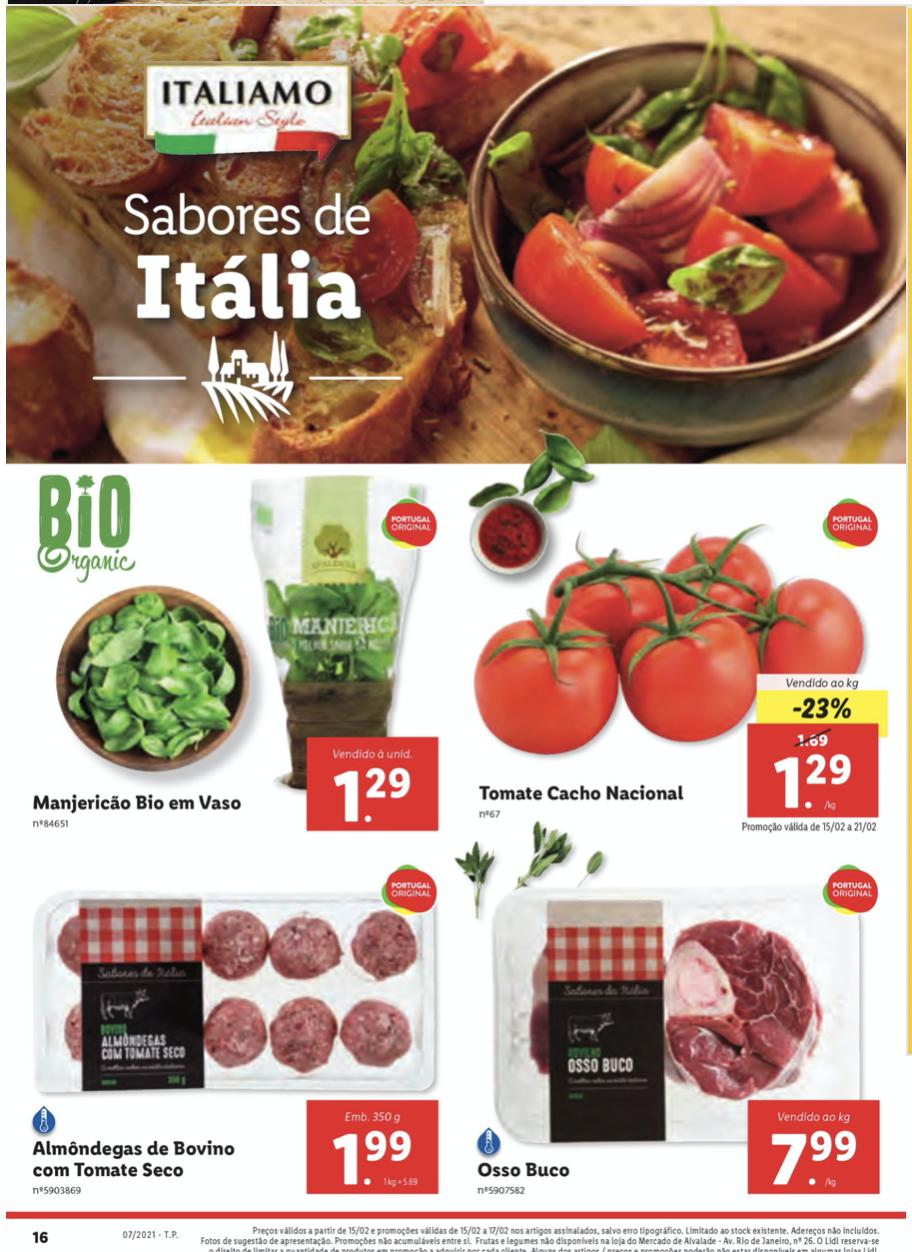name: (27, 1136, 240, 1183), (27, 787, 248, 820), (473, 777, 688, 809), (476, 1159, 579, 1181)
price: (768, 1128, 862, 1192), (332, 1127, 418, 1191), (773, 753, 857, 817), (331, 767, 418, 827)
product: (20, 467, 462, 831), (462, 487, 896, 831), (471, 856, 891, 1197), (13, 869, 443, 1197)
promotion: (785, 695, 859, 725)
